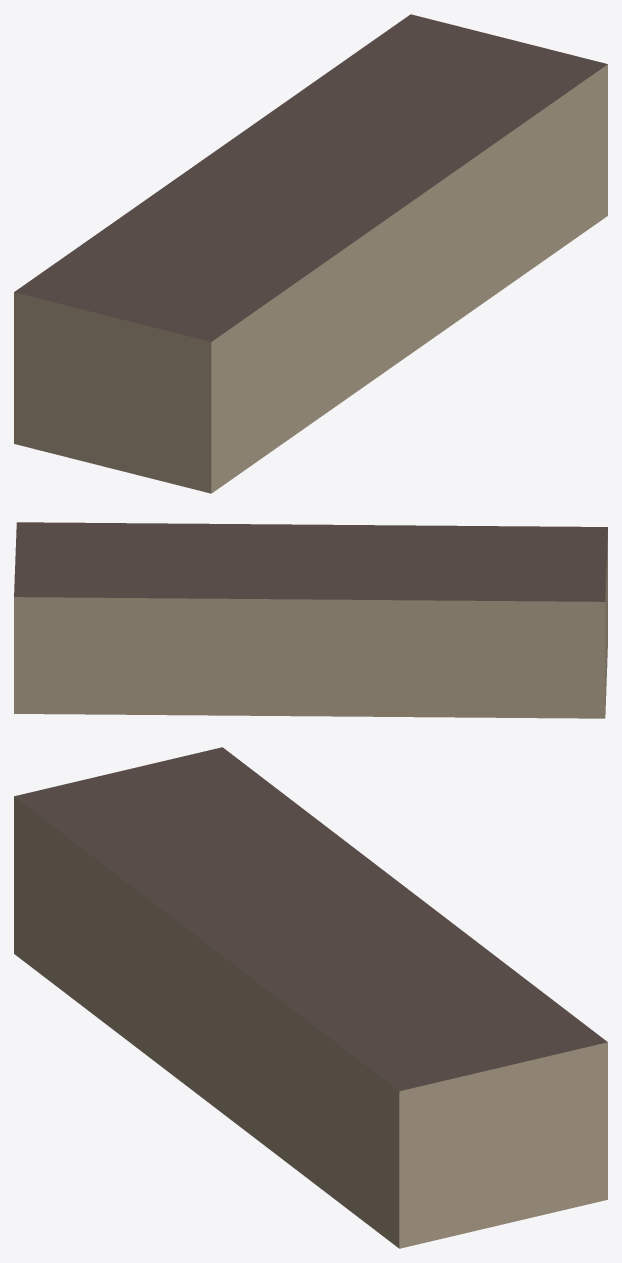
The picture shows the model from 3 angles, top to bottom: view 1: azimuth 30°, elevation 25°; view 2: azimuth 150°, elevation 25°; view 3: azimuth 270°, elevation 25°; orthographic projection. The views are drawn at different scales.
Visible parts, largest first — view 1: HP-w859447940; view 2: HP-w859447940; view 3: HP-w859447940.
Part boxes in pixels (x1=…): HP-w859447940: x1=14, y1=14, x2=607, y2=493; HP-w859447940: x1=14, y1=522, x2=607, y2=718; HP-w859447940: x1=14, y1=747, x2=607, y2=1248.
Bounding box in the file's own units: 42.16 × 9 × 30.76.
